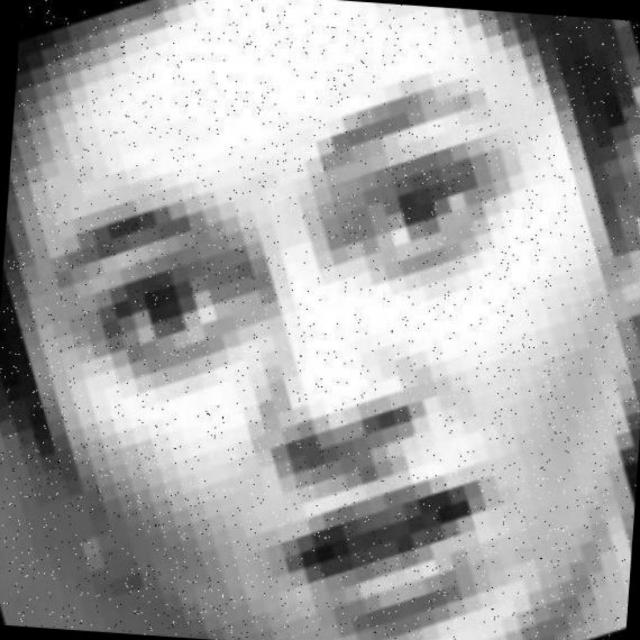Surprised: (35, 70, 640, 640)
